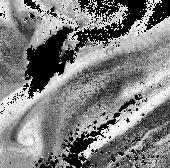CE: (9, 112, 44, 149)
